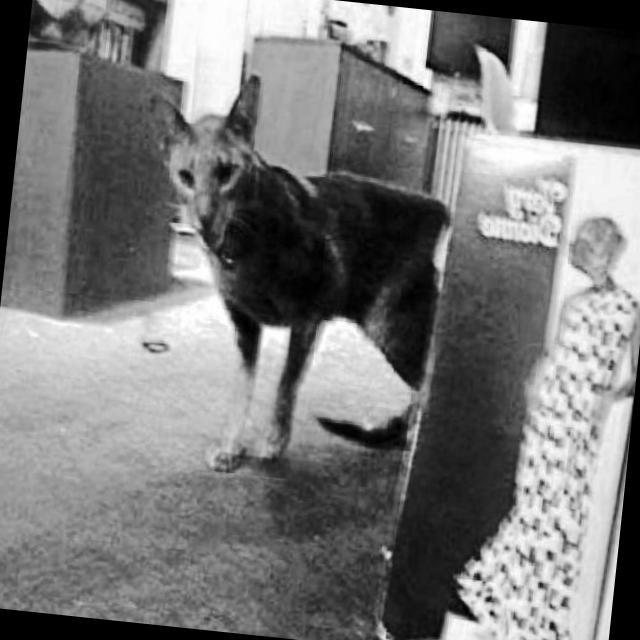Cat: (100, 54, 470, 499)
